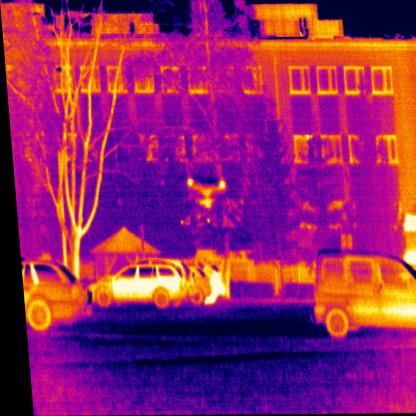drone: (183, 177, 223, 208)
vehicle: (303, 249, 415, 341), (83, 263, 182, 308)
